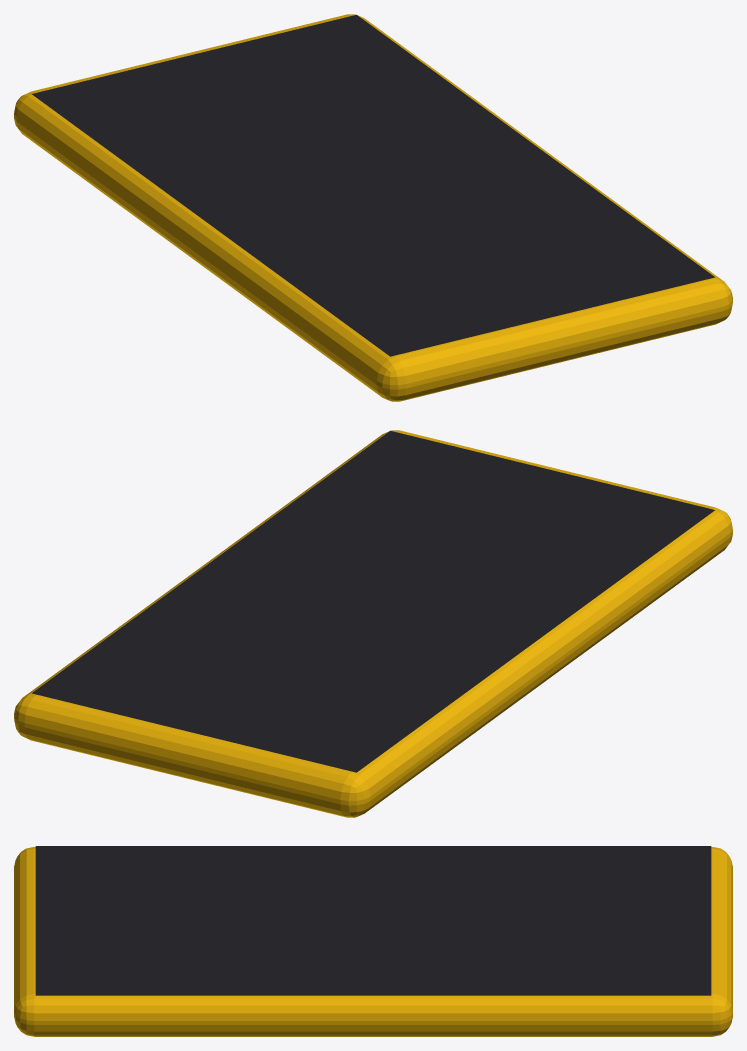
The model's file is Phone_964.glb.
The picture shows the model from 3 angles, top to bottom: view 1: azimuth 30°, elevation 25°; view 2: azimuth 150°, elevation 25°; view 3: azimuth 270°, elevation 25°; orthographic projection. The views are drawn at different scales.
Visible parts, largest first — view 1: Phone_Screen, Phone_Body; view 2: Phone_Screen, Phone_Body; view 3: Phone_Screen, Phone_Body.
Part boxes in pixels (x1,y1,x2,y2): Phone_Screen: (32, 14, 714, 356); Phone_Body: (14, 14, 732, 401); Phone_Screen: (32, 430, 714, 772); Phone_Body: (14, 430, 732, 817); Phone_Screen: (35, 846, 711, 995); Phone_Body: (14, 847, 732, 1036).
Bounding box in the file's own units: 0.0764 × 0.0091 × 0.1429.
